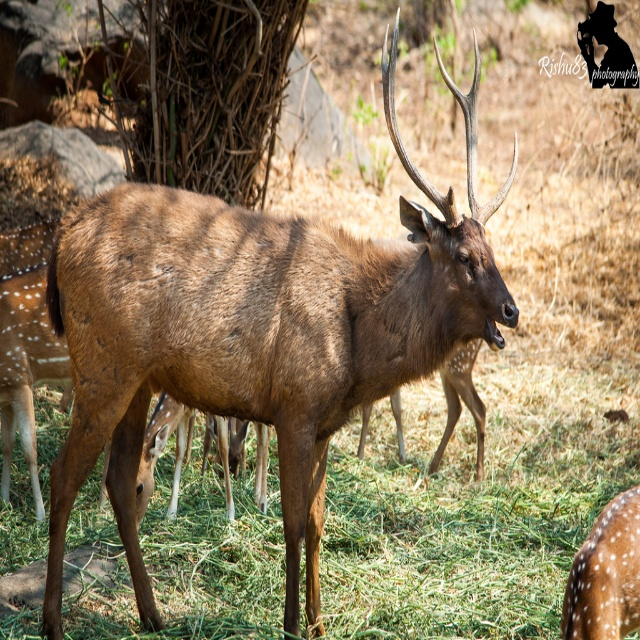Deer: (0, 6, 520, 640), (558, 484, 640, 640)
